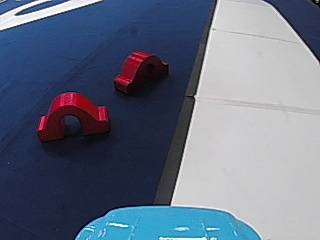bridge: (32, 88, 111, 140), (112, 47, 168, 97)
